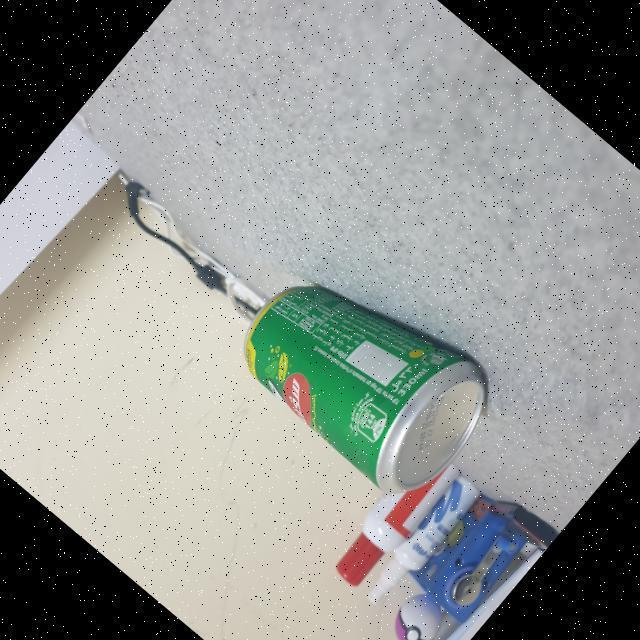can: (202, 209, 526, 523)
